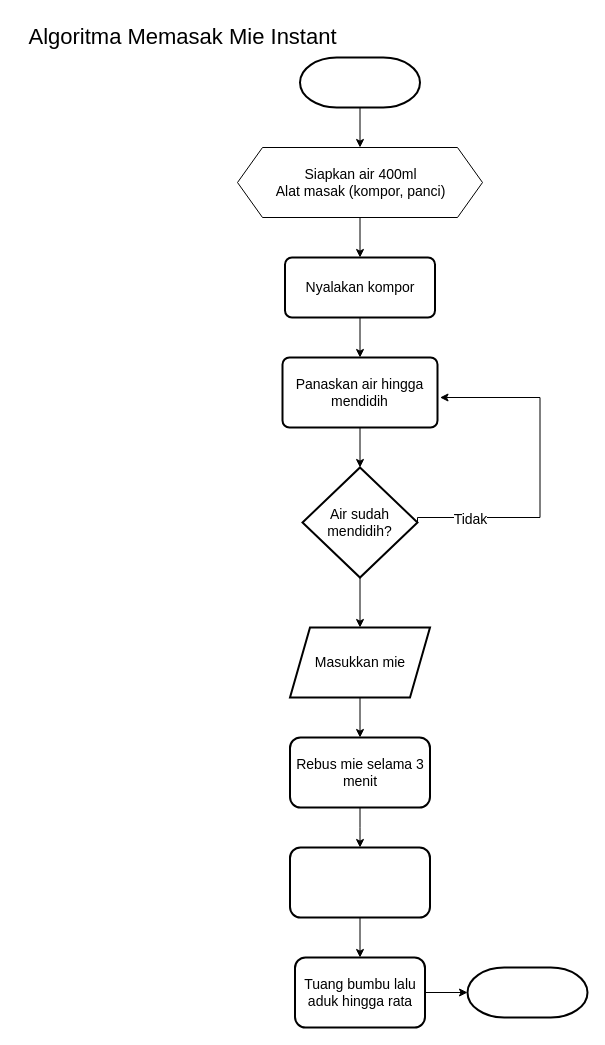
The diagram is 605 pixels wide and 1045 high, and some of its shapes have lost their labels. The box of each missing label's shape, as (x1, y1, x2, y2) in pixels:
Mulai: (298, 56, 420, 108)
Selesai: (466, 966, 588, 1018)
Tiriskan mie dan tuang ke dalam piring: (288, 846, 430, 918)
